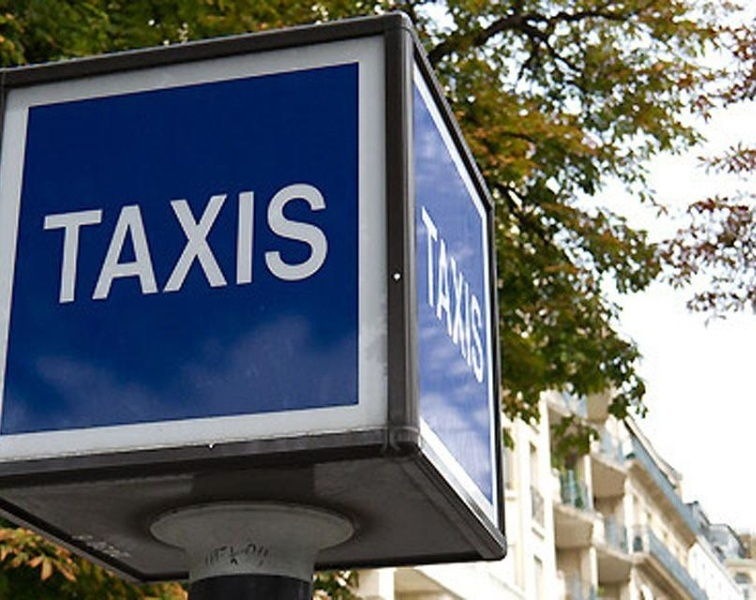text: (433, 194, 448, 391), (449, 194, 464, 391), (465, 194, 480, 391), (419, 194, 432, 391), (49, 179, 64, 305), (65, 179, 80, 305), (81, 179, 96, 305), (97, 179, 112, 305), (113, 179, 128, 305), (129, 179, 144, 305), (145, 179, 160, 305), (161, 179, 176, 305), (177, 179, 192, 305), (193, 179, 208, 305), (209, 179, 224, 305), (225, 179, 240, 305), (241, 179, 256, 305), (257, 179, 272, 305), (273, 179, 288, 305), (289, 179, 304, 305), (305, 179, 320, 305), (38, 179, 48, 305), (321, 179, 331, 305), (481, 194, 486, 391)
